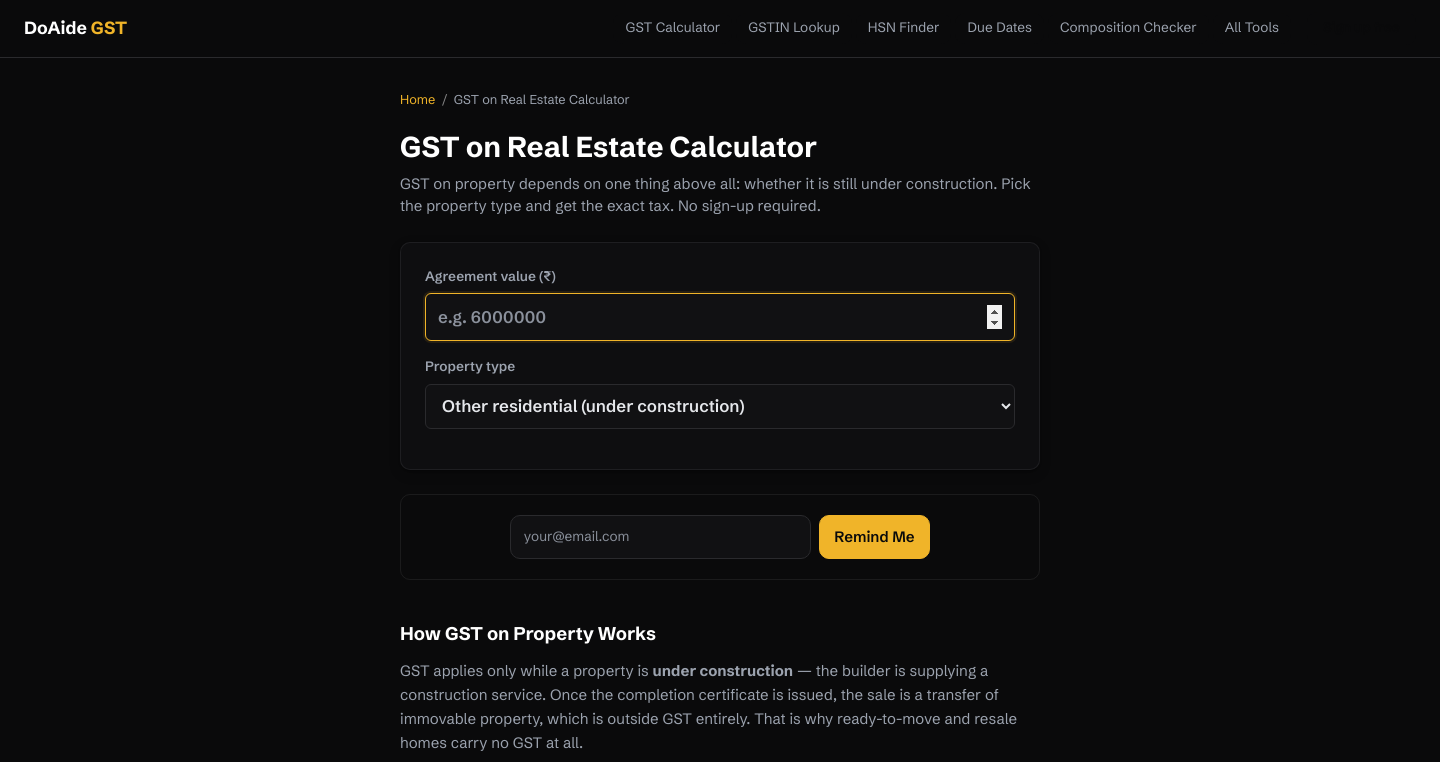
Test: GstOnRealEstatePage › shows the category comparison table once an amount is entered
Step 1. Type "6000000" into the number field with placeholder "e.g. 6000000" → (720, 317), box [425, 293, 1015, 341]
(page scrolled)
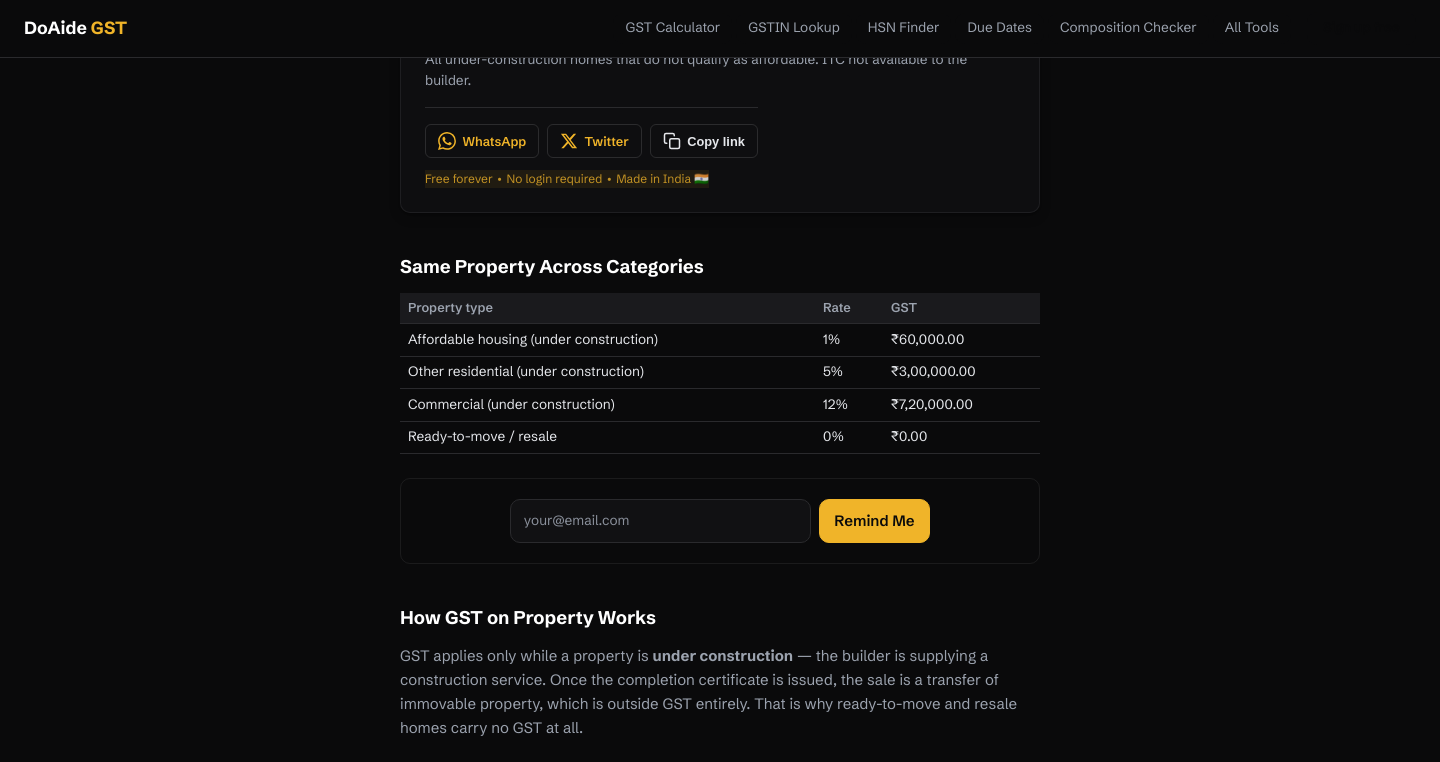
Check: the heading "Same Property Across Categories" is shown, box [400, 255, 704, 278]
Check: the text "₹7,20,000.00" is shown, box [883, 389, 1040, 421]
